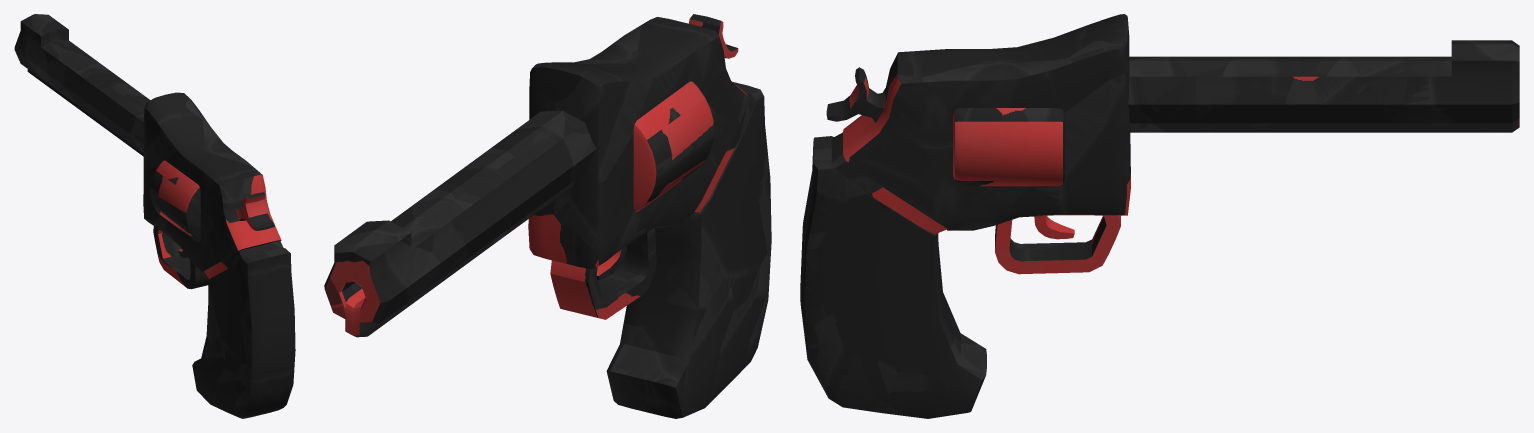
Rendered from Revolver.fbx.
3 renders of one model, left to right at view 1: azimuth 30°, elevation 25°; view 2: azimuth 150°, elevation 25°; view 3: azimuth 270°, elevation 25°, orthographic. The views are drawn at different scales.
Visible parts, largest first — view 1: Cube.009; view 2: Cube.009; view 3: Cube.009.
Part boxes in pixels (bbox=[...]): Cube.009: bbox=[14, 14, 295, 418]; Cube.009: bbox=[324, 14, 771, 418]; Cube.009: bbox=[800, 14, 1519, 418].
Bounding box in the file's own units: 152 × 517 × 880.
